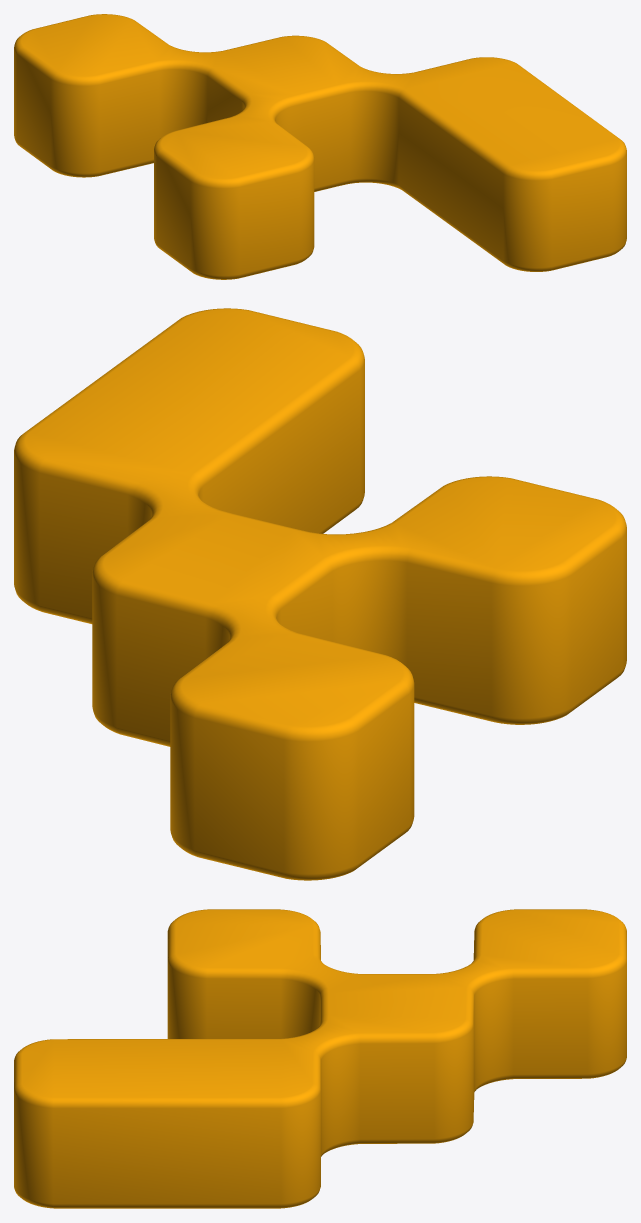
File: LLM_BA.glb
3 views of the same model, one above another, from view 1: azimuth 30°, elevation 25°; view 2: azimuth 150°, elevation 25°; view 3: azimuth 270°, elevation 25° (orthographic). The views are drawn at different scales.
Visible parts, largest first — view 1: Curve; view 2: Curve; view 3: Curve.
Part boxes in pixels (x1,y1,x2,y2): Curve: (14,14,626,279); Curve: (14,308,626,880); Curve: (14,909,626,1208).
Bounding box in the file's own units: 3.79 × 1 × 5.05.
